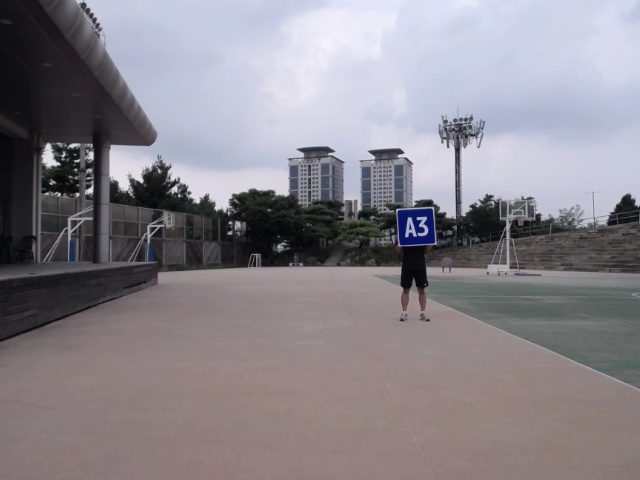delivery_a3: (396, 207, 436, 246)
